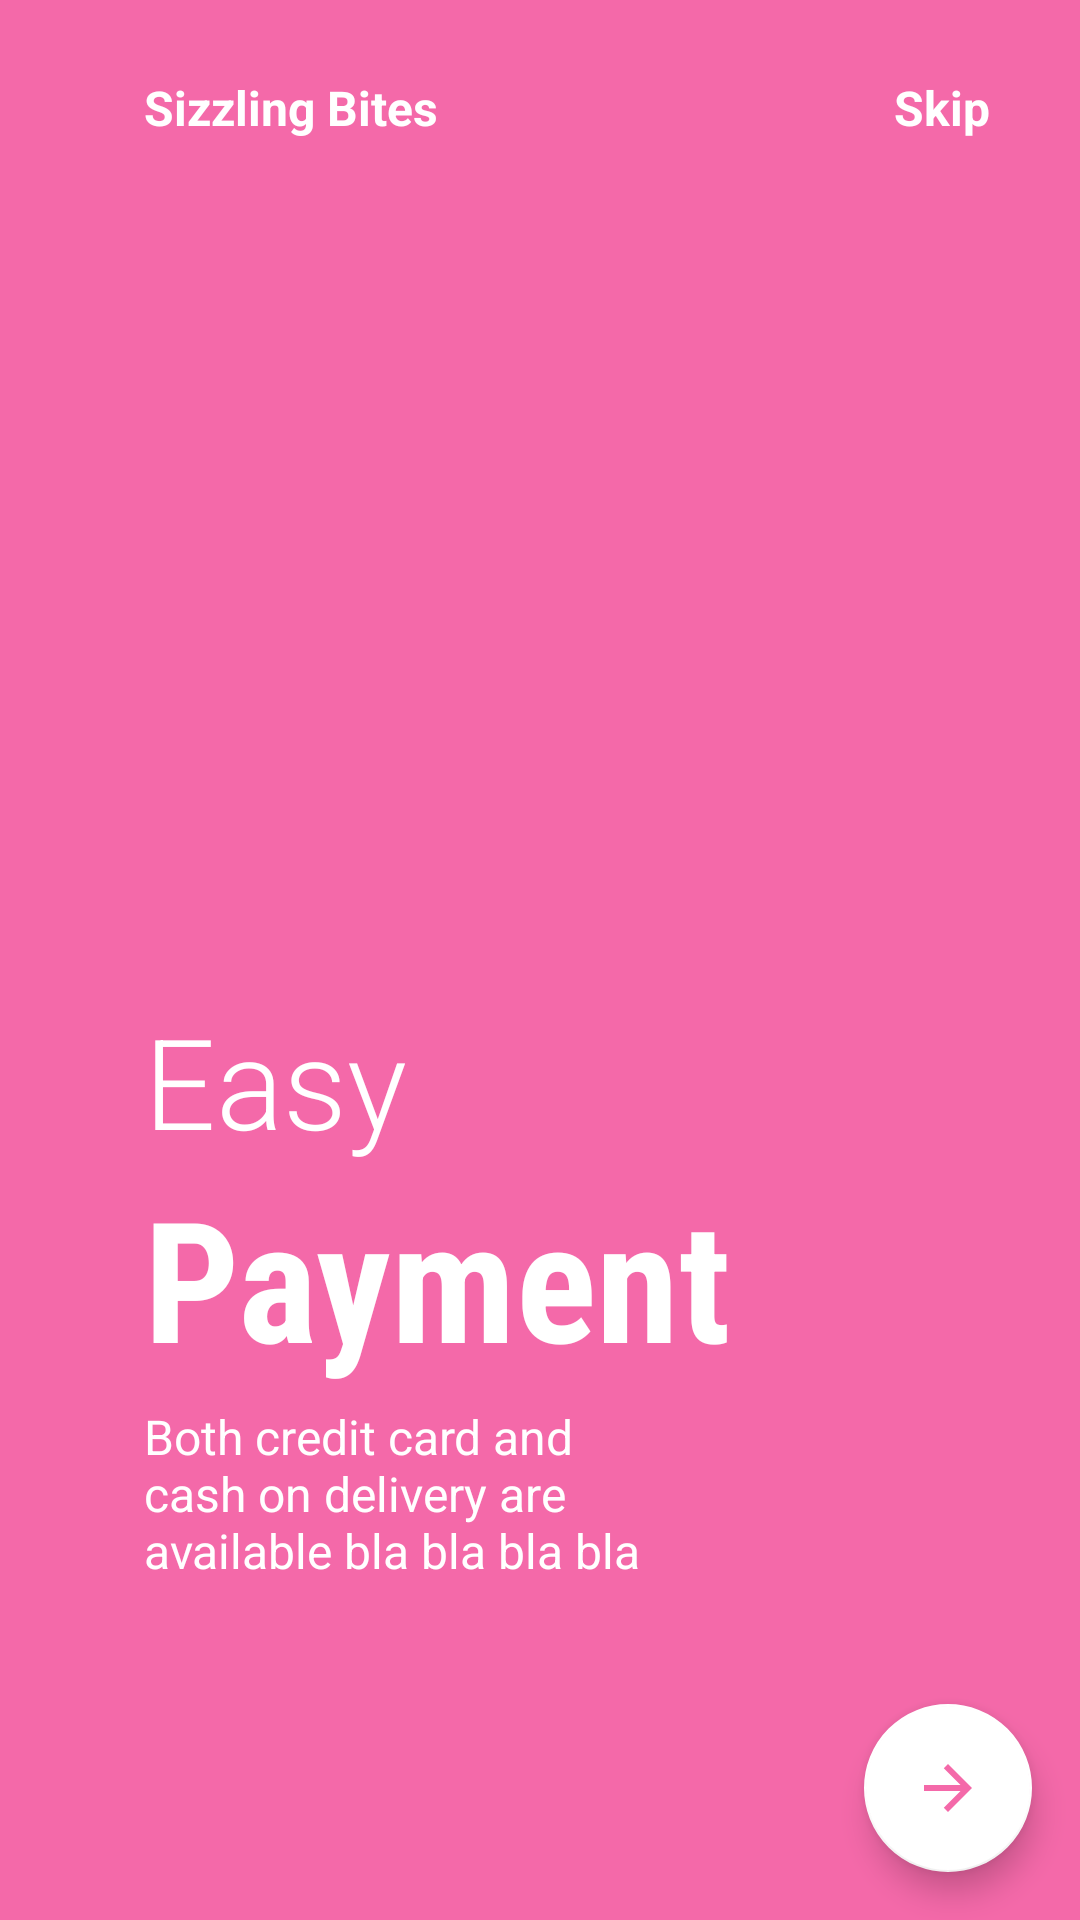

Point at icon controls on the screen. Image size 1080*1920, points as [x,y].
arrow forward: [948,1788]
